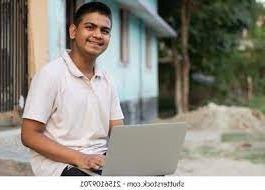Human: (24, 7, 128, 177)
